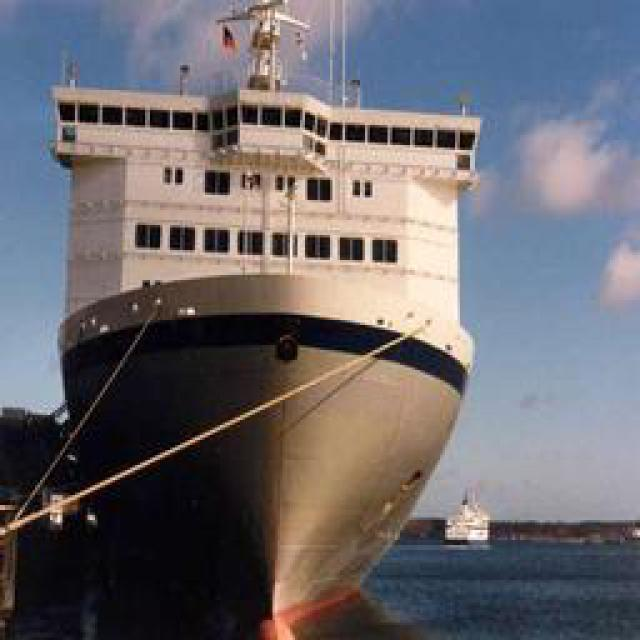Ship: (37, 65, 502, 640)
